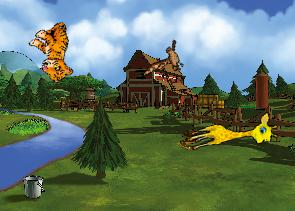eagle: (140, 32, 192, 90)
giraffe: (186, 110, 280, 161)
tiger: (22, 16, 89, 86)
